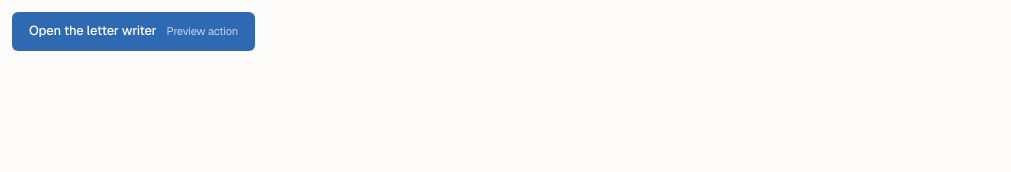
Test case: compatible inert render tree › renders only an approved action node and explains its published destination without navigating
Click the button "Open the letter writer Preview action" at point(134, 31), box [12,12,255,51]
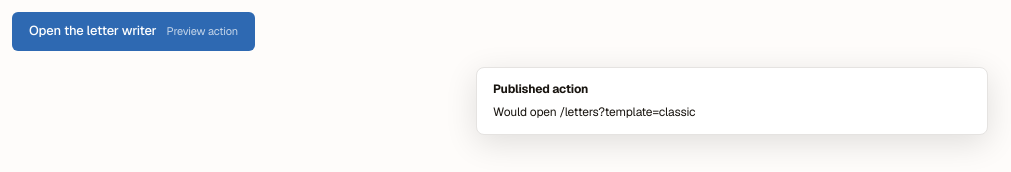
expect the element showing "Published action Would open /letters?template=classic" is shown: met, box [476,67,988,135]
